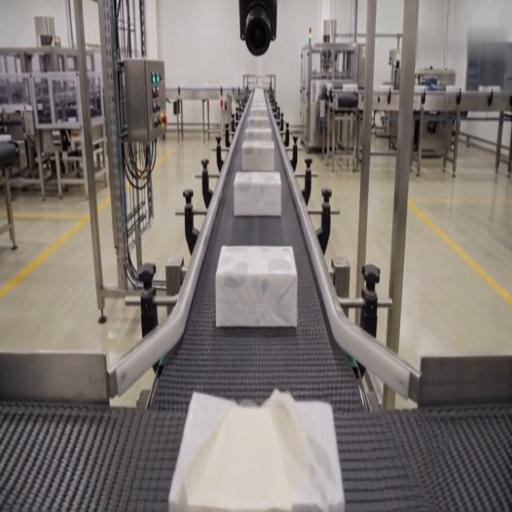defective: (171, 386, 343, 512), (216, 246, 298, 329)
good: (232, 172, 283, 218), (240, 140, 276, 172), (244, 124, 273, 141), (248, 92, 270, 109), (246, 111, 270, 126)
